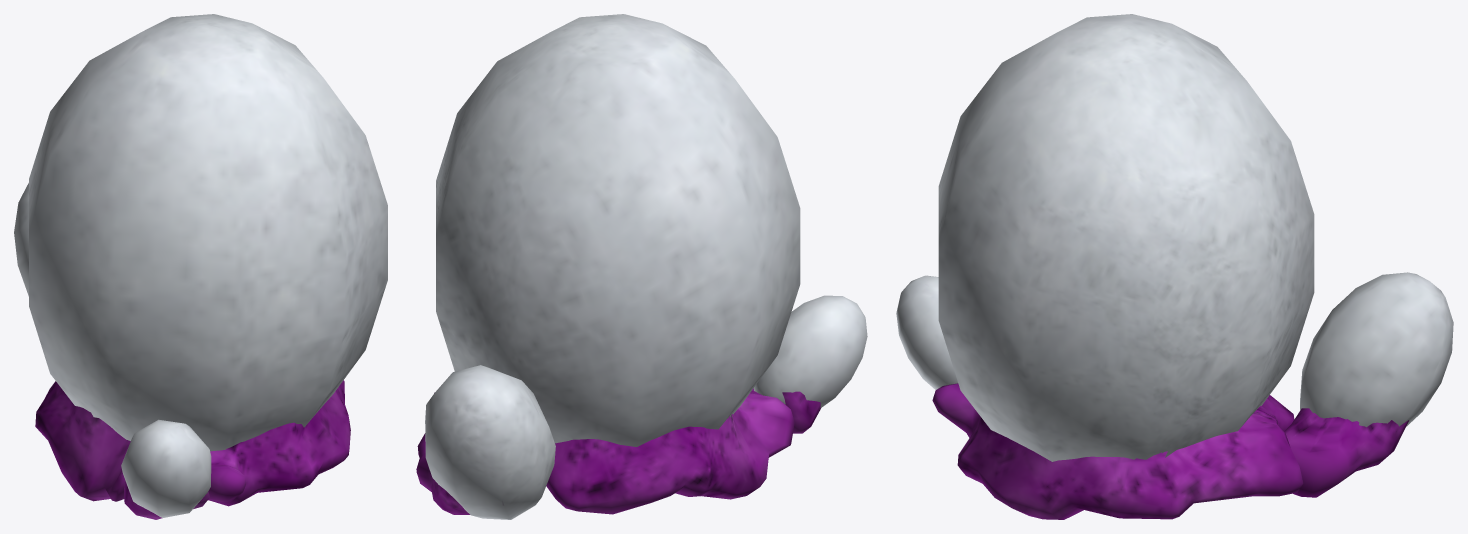
The model's file is EggsLP.fbx.
3 renders of one model, left to right at view 1: azimuth 30°, elevation 25°; view 2: azimuth 150°, elevation 25°; view 3: azimuth 270°, elevation 25°, orthographic. The views are drawn at different scales.
Parts seen in each view (by area): view 1: Eggs; view 2: Eggs; view 3: Eggs.
Boxes of the visible parts, <box> form: Eggs: <box>14,14,387,519</box>; Eggs: <box>416,14,867,519</box>; Eggs: <box>896,14,1453,519</box>.
Size of the model in its own units: 207 by 272 by 302.
